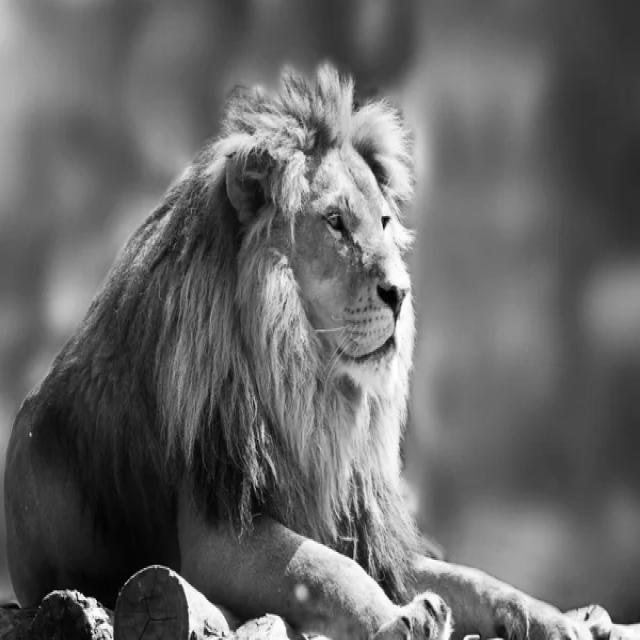Animal: (7, 64, 630, 640)
